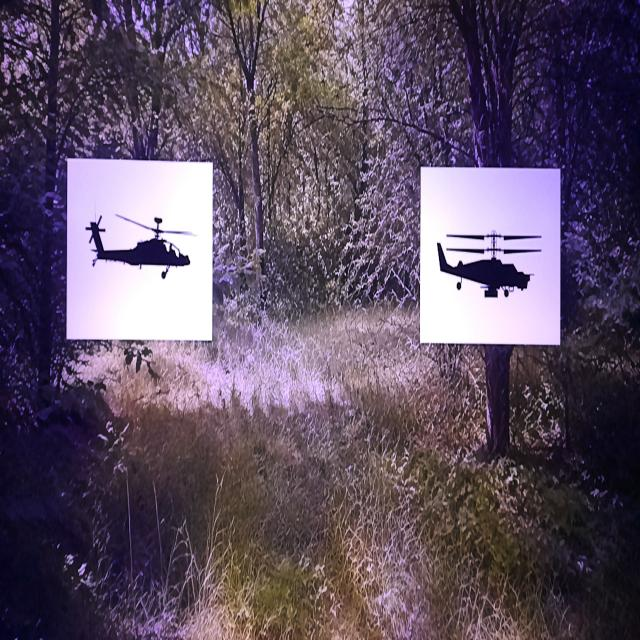Apache friendly: (86, 214, 193, 279)
Ka-52 Enemy: (438, 232, 541, 297)
